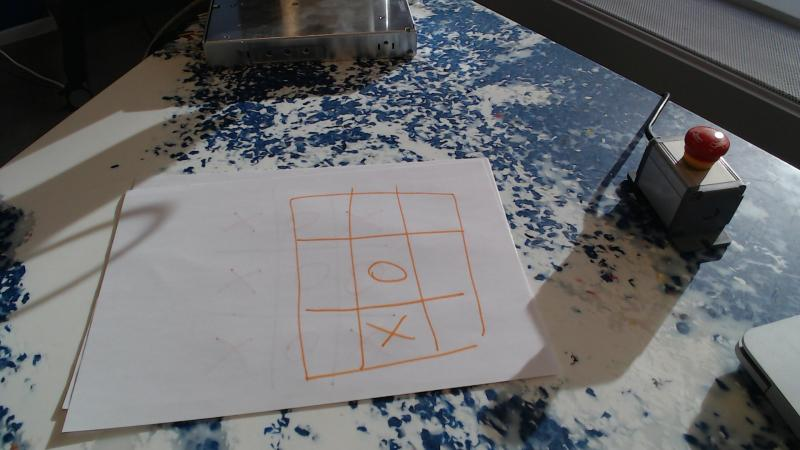O: (364, 317, 416, 355), (360, 258, 412, 288)
grid: (288, 193, 490, 374)
